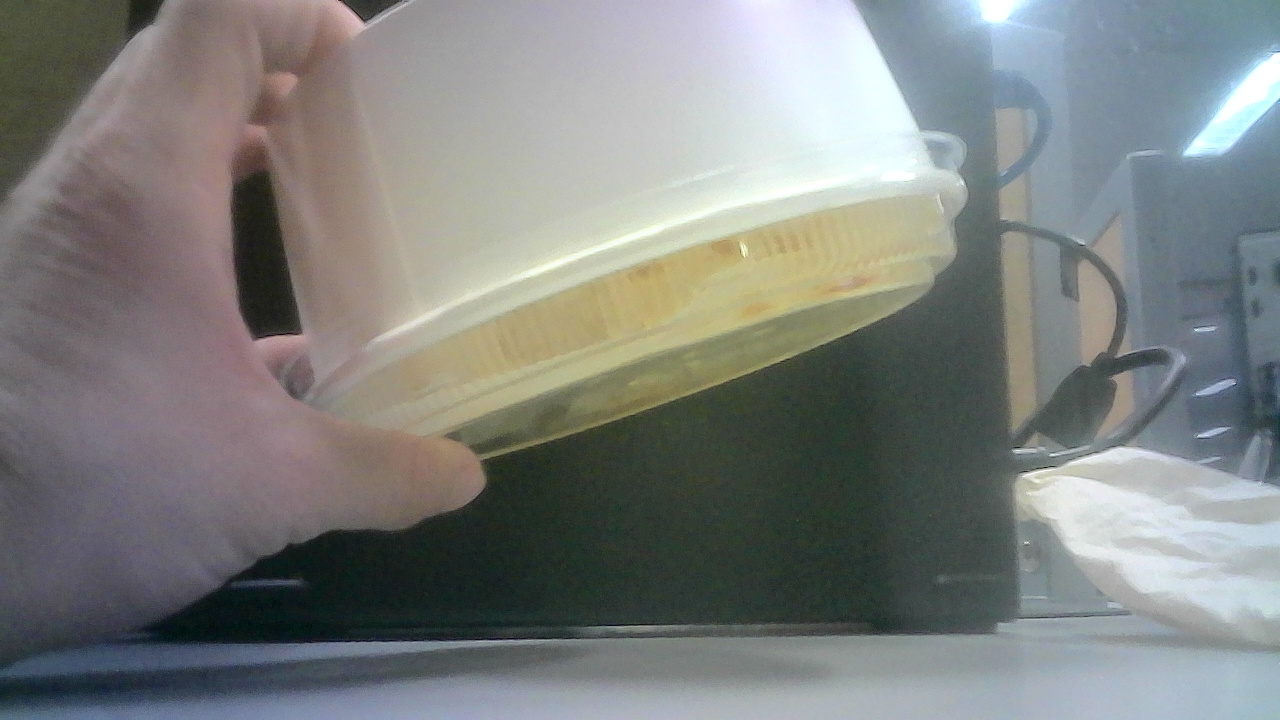Undefined_Waste: (286, 5, 982, 484)
